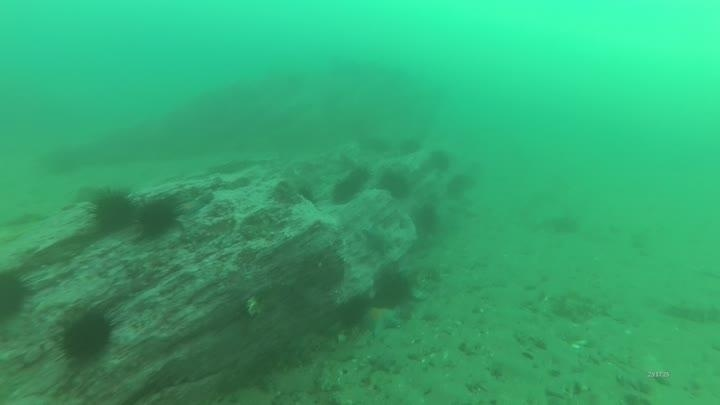echinus: (53, 305, 119, 368), (88, 187, 138, 235), (133, 194, 183, 241), (297, 245, 347, 292), (370, 264, 415, 310), (0, 266, 35, 324), (334, 292, 371, 331), (329, 171, 366, 206), (377, 167, 413, 201), (409, 201, 442, 238), (444, 171, 476, 200), (426, 147, 454, 175), (397, 135, 423, 158)
holothurian: (658, 295, 720, 326)
starfish: (359, 303, 403, 337), (360, 223, 395, 258), (174, 193, 210, 219)
